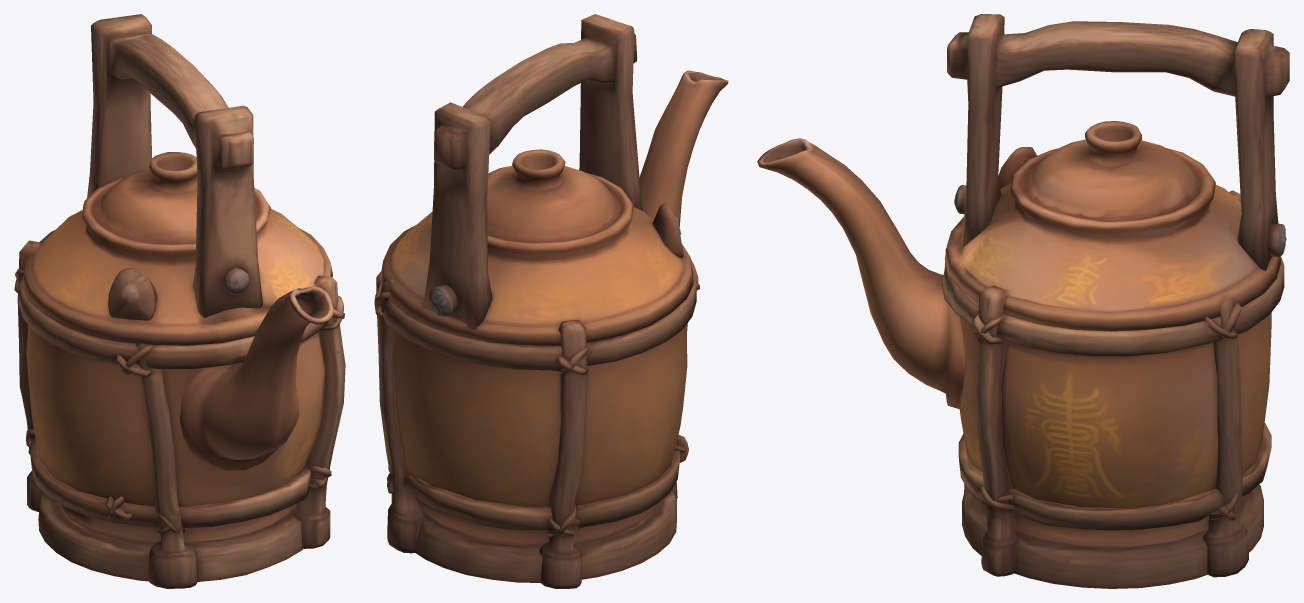
File: 傀儡水壶.fbx
The picture shows the model from 3 angles, left to right: view 1: azimuth 30°, elevation 25°; view 2: azimuth 150°, elevation 25°; view 3: azimuth 270°, elevation 25°; orthographic projection. The views are drawn at different scales.
Visible parts, largest first — view 1: tripo_node_193090f9; view 2: tripo_node_193090f9; view 3: tripo_node_193090f9.
Part boxes in pixels (left/top/right/bottom): tripo_node_193090f9: left=14, top=14, right=345, bottom=588; tripo_node_193090f9: left=374, top=14, right=728, bottom=588; tripo_node_193090f9: left=757, top=14, right=1289, bottom=588.
Bounding box in the file's own units: 0.623 × 0.998 × 0.9707.
